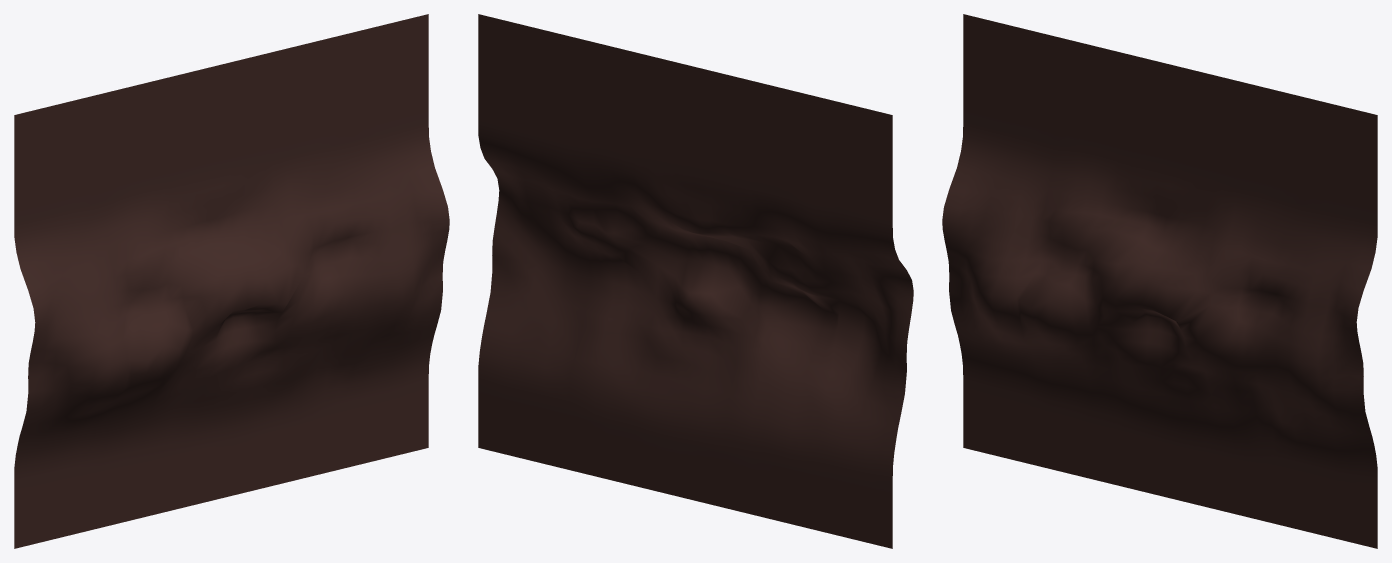
The model's file is Background.fbx.
3 views of the same model, side by side, from view 1: azimuth 30°, elevation 25°; view 2: azimuth 150°, elevation 25°; view 3: azimuth 330°, elevation 25° (orthographic).
Visible parts, largest first — view 1: Background; view 2: Background; view 3: Background.
Boxes of the visible parts, x1,y1,x2,y2 form: Background: (14, 14, 449, 548); Background: (478, 14, 913, 548); Background: (942, 14, 1377, 548).
Bounding box in the file's own units: 2000 × 2000 × 281.
Materials: 1 (1 with a texture image).
